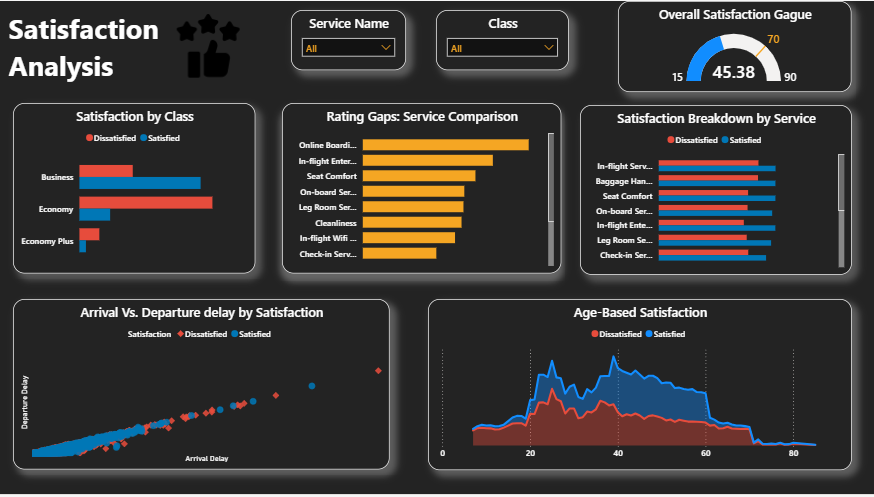

This screenshot's page, from the dashboard's own definition file:
{"tool":"powerbi","page":{"name":"Page 2","canvas":[1280,720],"ordinal":1},"visuals":[{"type":"gauge","title":"Overall Satisfaction Gague","fields":{"Y":["Avg(airline_passenger_satisfaction.Overall Satisfaction score)"],"MinValue":["airline_passenger_satisfaction.Mininum_val"],"TargetValue":["airline_passenger_satisfaction.Target"],"MaxValue":["airline_passenger_satisfaction.Maximum_val"]},"box":[906.7,0,340.6,132.9],"z":0},{"type":"scatterChart","title":"Arrival Vs. Departure delay by Satisfaction","fields":{"X":["airline_passenger_satisfaction.Arrival Delay"],"Y":["airline_passenger_satisfaction.Departure Delay"],"Series":["airline_passenger_satisfaction.Satisfaction"]},"box":[23.9,434.7,549.7,249.5],"z":1000},{"type":"clusteredBarChart","title":"Satisfaction by Class","fields":{"Y":["airline_passenger_satisfaction.Participants"],"Category":["airline_passenger_satisfaction.Class"],"Series":["airline_passenger_satisfaction.Satisfaction"]},"box":[23.9,149.4,354,249.5],"z":2000},{"type":"stackedAreaChart","title":"Age-Based Satisfaction","fields":{"Category":["airline_passenger_satisfaction.Age (bins)"],"Series":["airline_passenger_satisfaction.Satisfaction"],"Y":["airline_passenger_satisfaction.Participants"]},"box":[628.9,434.9,618.6,249.8],"z":3000},{"type":"clusteredBarChart","title":"Satisfaction Breakdown by Service","fields":{"Category":["Serivce ratings.Service Name"],"Y":["Avg(Serivce ratings.Value)"],"Series":["Serivce ratings.Satisfaction"]},"box":[850.8,151.3,396.7,248.3],"z":4000},{"type":"clusteredBarChart","title":"Rating Gaps: Service Comparison","fields":{"Category":["Serivce ratings.Service Name"],"Y":["Serivce ratings.Rating Gap"]},"box":[416.8,149.4,407.8,249.5],"z":5000},{"type":"textbox","title":"Satisfaction Analysis","box":[12,13.4,324.1,104.6],"z":6000},{"type":"slicer","title":"Service Name","fields":{"Values":["Serivce ratings.Service Name"]},"box":[429.1,13.2,167.5,88.2],"z":7000},{"type":"slicer","title":"Class","fields":{"Values":["Serivce ratings.Class"]},"box":[640.7,13.2,194,88.2],"z":8000},{"type":"image","box":[261.6,19.1,94,92.6],"z":8001}]}

Visuals, with their boxes in screenshot pixels (x1, y1, x2, y2), scaled from the page's 1280x720 canvas onto the 874x497 screenshot:
"Overall Satisfaction Gague" gauge: x1=619, y1=0, x2=852, y2=92
"Arrival Vs. Departure delay by Satisfaction" scatterChart: x1=16, y1=300, x2=392, y2=472
"Satisfaction by Class" clusteredBarChart: x1=16, y1=103, x2=258, y2=275
"Age-Based Satisfaction" stackedAreaChart: x1=429, y1=300, x2=852, y2=473
"Satisfaction Breakdown by Service" clusteredBarChart: x1=581, y1=104, x2=852, y2=276
"Rating Gaps: Service Comparison" clusteredBarChart: x1=285, y1=103, x2=563, y2=275
"Satisfaction Analysis" textbox: x1=8, y1=9, x2=229, y2=81
"Service Name" slicer: x1=293, y1=9, x2=407, y2=70
"Class" slicer: x1=437, y1=9, x2=570, y2=70
image: x1=179, y1=13, x2=243, y2=77
